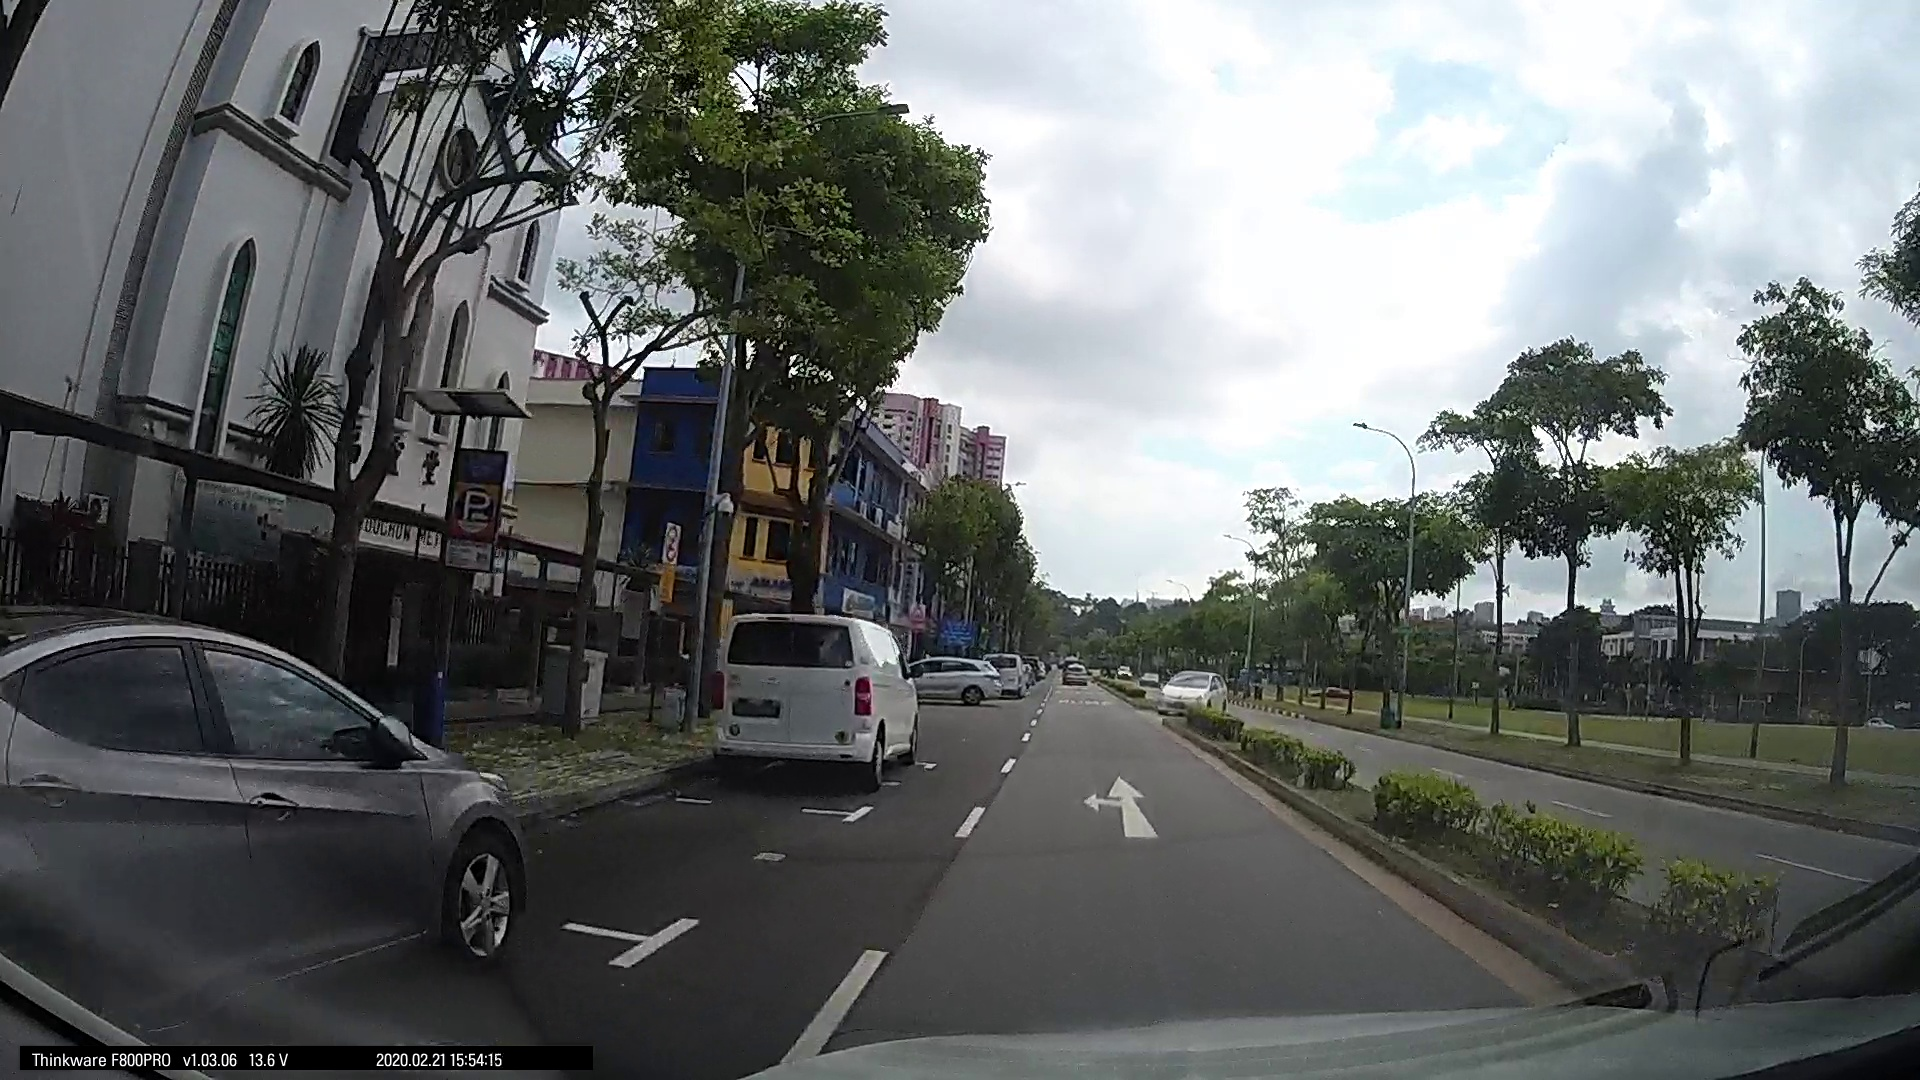Heavy Vehicle: (814, 607, 951, 731)
Light Vehicle: (157, 615, 688, 931), (1585, 654, 1883, 844), (1456, 676, 1601, 789), (1385, 684, 1474, 765), (1164, 645, 1232, 704), (1030, 647, 1073, 686), (955, 644, 996, 683)
